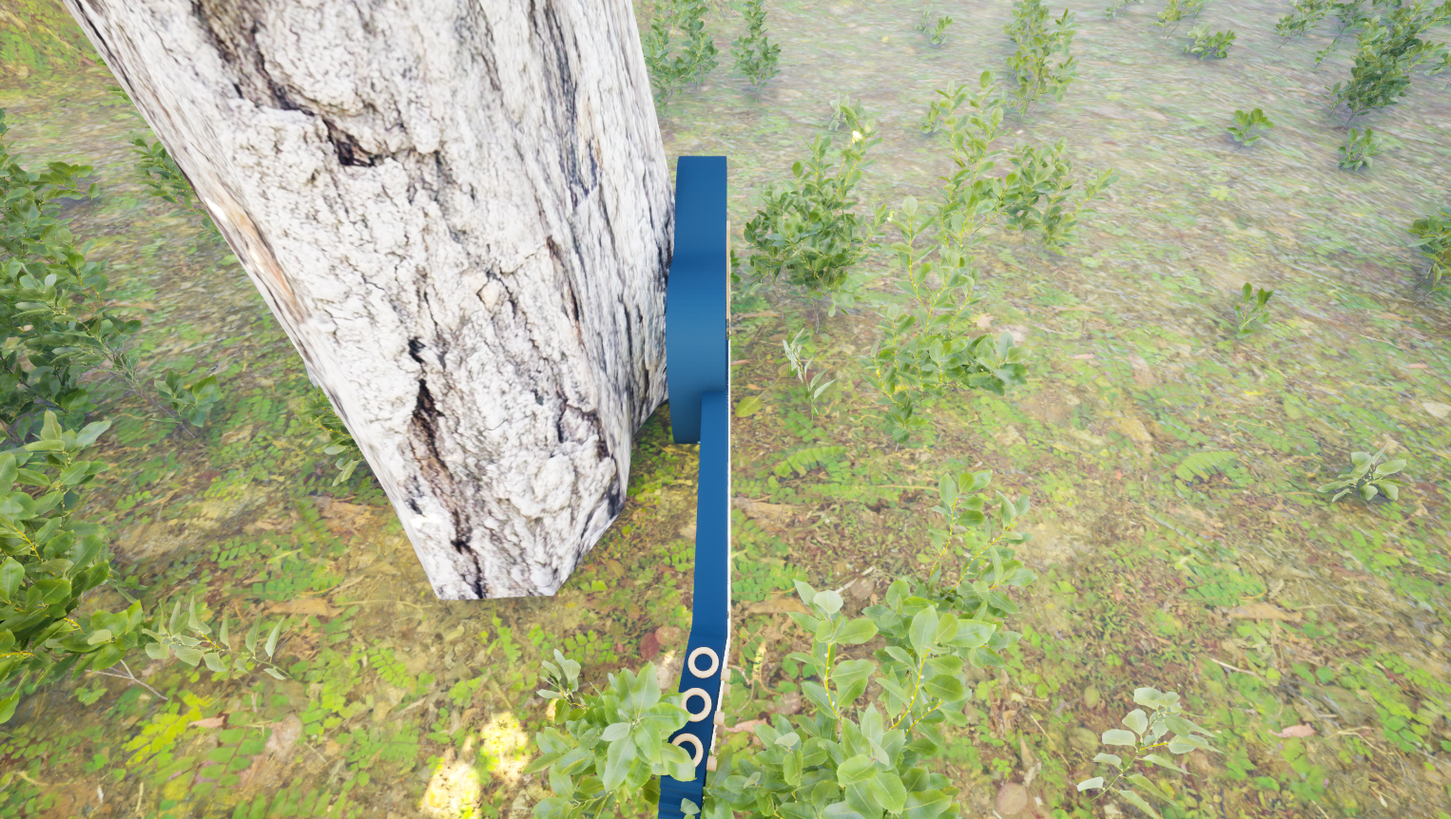Guitar: (596, 129, 733, 819)
